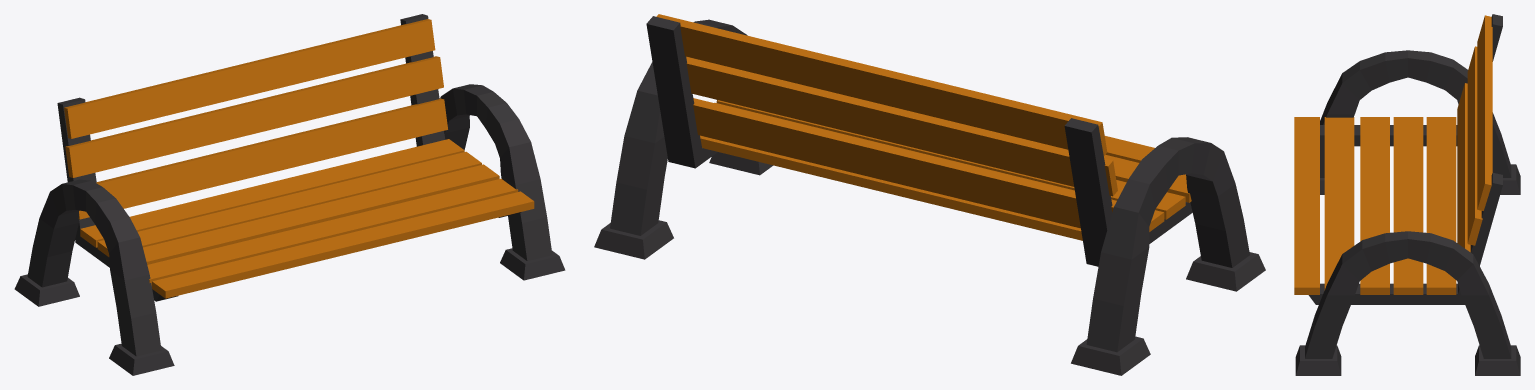
The model's file is Bench.fbx.
3 views of the same model, side by side, from view 1: azimuth 30°, elevation 25°; view 2: azimuth 150°, elevation 25°; view 3: azimuth 270°, elevation 25° (orthographic). The views are drawn at different scales.
Parts seen in each view (by area): view 1: Bench; view 2: Bench; view 3: Bench.
Boxes of the visible parts, left/top/right/bottom form: Bench: left=14, top=14, right=565, bottom=375; Bench: left=594, top=14, right=1265, bottom=375; Bench: left=1294, top=14, right=1520, bottom=375.
Bounding box in the file's own units: 2075 × 857 × 990.
